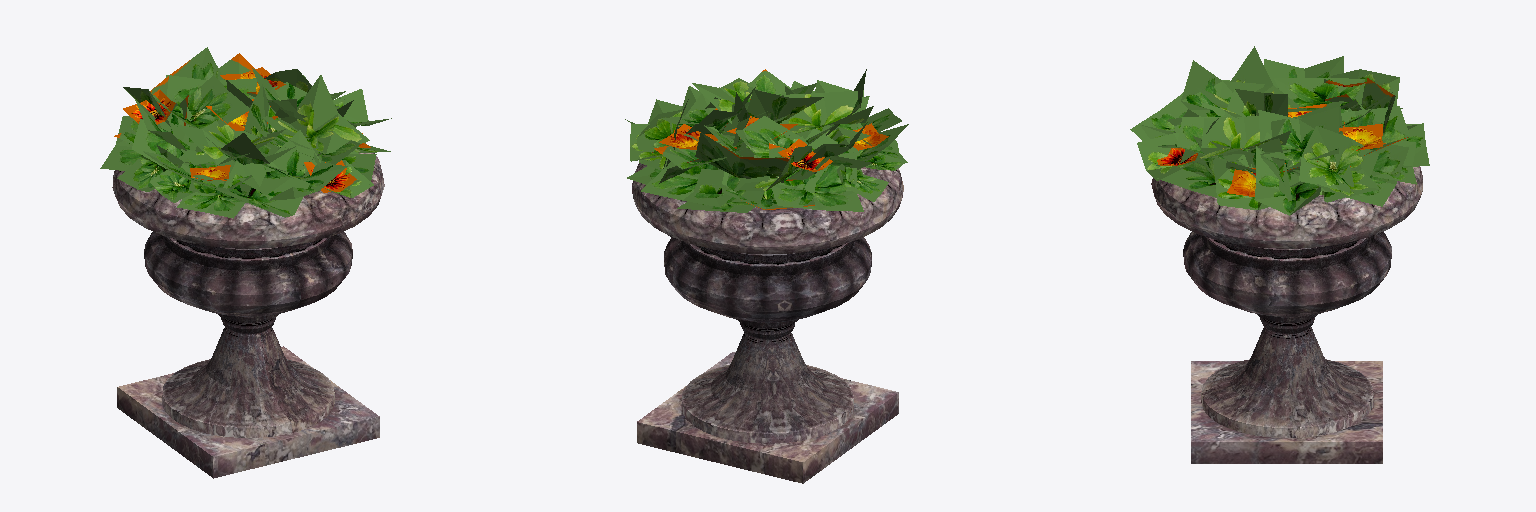
3 views of the same model, side by side, from view 1: azimuth 30°, elevation 25°; view 2: azimuth 150°, elevation 25°; view 3: azimuth 270°, elevation 25° (orthographic).
Visible parts, largest first — view 1: sponza_373, sponza_372; view 2: sponza_373, sponza_372; view 3: sponza_373, sponza_372.
Boxes of the visible parts, x1,y1,x2,y2 form: sponza_373: [112, 153, 384, 478]; sponza_372: [100, 47, 391, 218]; sponza_373: [632, 163, 903, 483]; sponza_372: [625, 69, 908, 212]; sponza_373: [1151, 166, 1422, 463]; sponza_372: [1130, 46, 1429, 215].
Bounding box in the file's own units: 9.1 × 11.65 × 9.37.
Materials: 2 (2 with a texture image).